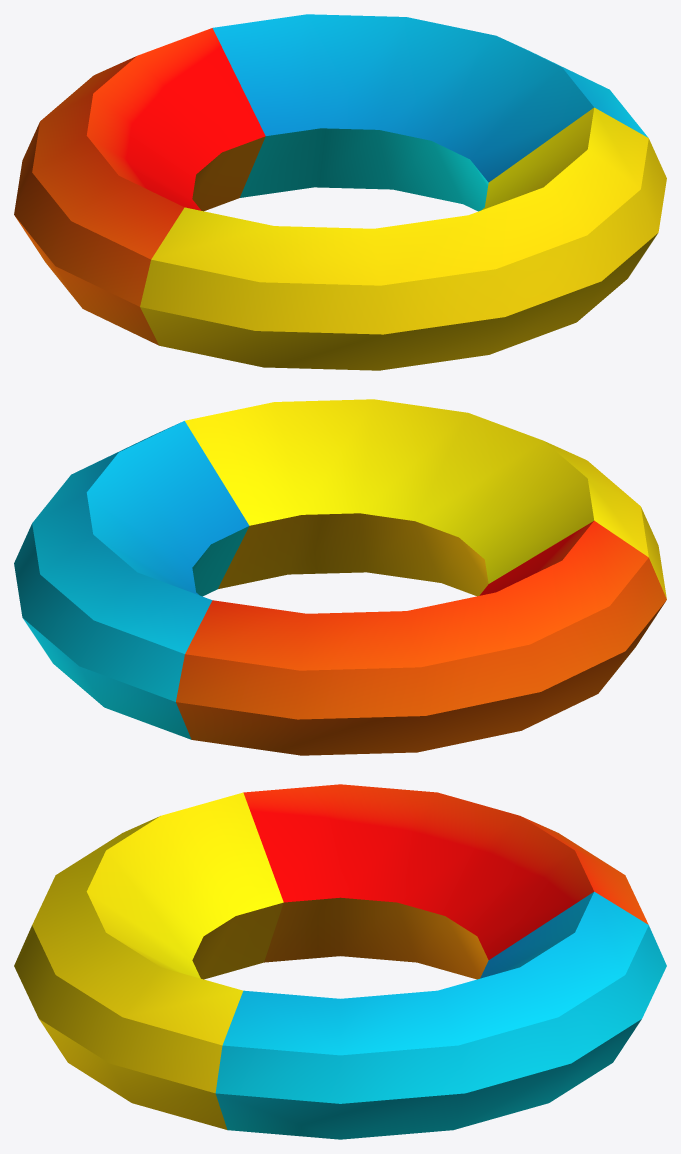
Rendered from Pelampung2.fbx.
3 views of the same model, one above another, from view 1: azimuth 30°, elevation 25°; view 2: azimuth 150°, elevation 25°; view 3: azimuth 270°, elevation 25° (orthographic).
Visible parts, largest first — view 1: Prop_SwimmingRing_05.001; view 2: Prop_SwimmingRing_05.001; view 3: Prop_SwimmingRing_05.001.
Boxes of the visible parts, x1=… form: Prop_SwimmingRing_05.001: x1=14, y1=14, x2=666, y2=370; Prop_SwimmingRing_05.001: x1=14, y1=399, x2=666, y2=755; Prop_SwimmingRing_05.001: x1=14, y1=784, x2=666, y2=1139.
Bounding box in the file's own units: 78.33 × 19.73 × 78.33.
